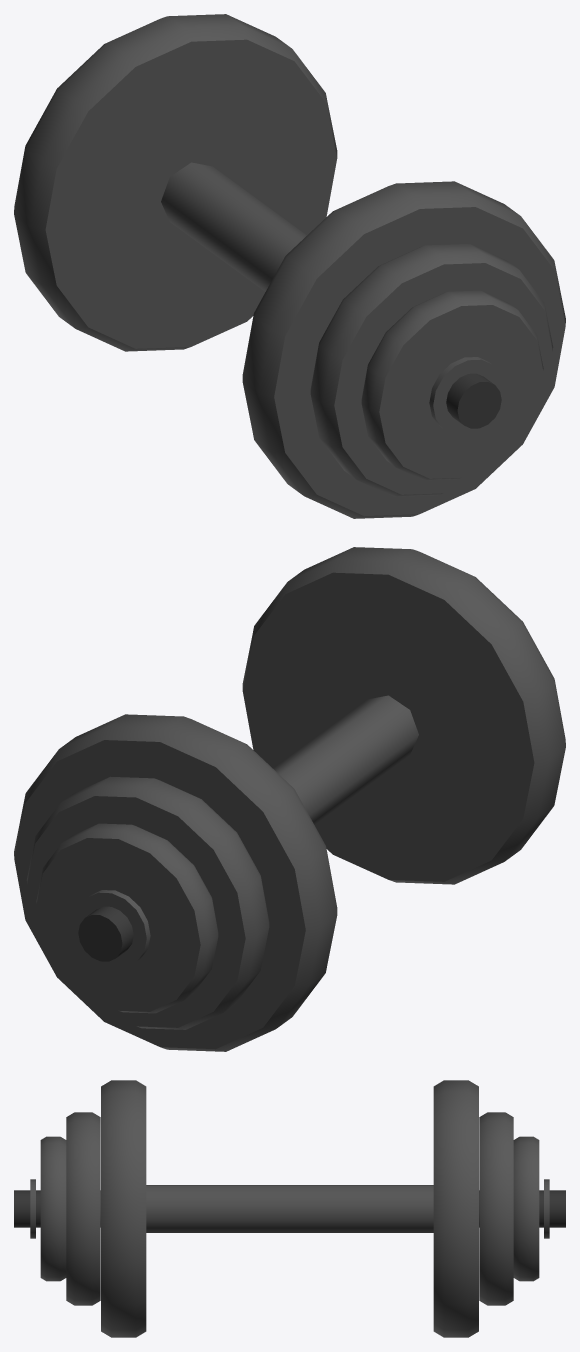
The model's file is dumbell_heavy.fbx.
3 views of the same model, one above another, from view 1: azimuth 30°, elevation 25°; view 2: azimuth 150°, elevation 25°; view 3: azimuth 270°, elevation 25° (orthographic). The views are drawn at different scales.
Visible parts, largest first — view 1: Cylinder.001; view 2: Cylinder.001; view 3: Cylinder.001.
Part boxes in pixels (bbox=[...]): Cylinder.001: bbox=[14, 14, 565, 518]; Cylinder.001: bbox=[14, 547, 565, 1051]; Cylinder.001: bbox=[14, 1080, 565, 1337].
Size of the model in its own units: 290 by 290 by 621.
